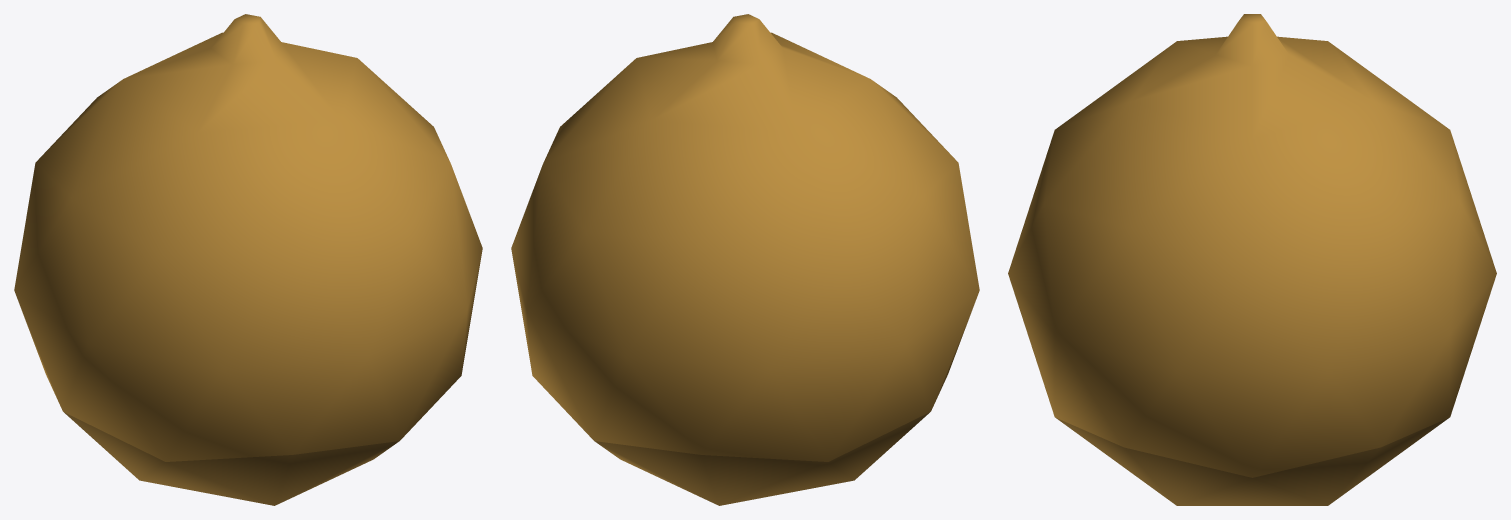
The model's file is Onion.glb.
The picture shows the model from 3 angles, left to right: view 1: azimuth 30°, elevation 25°; view 2: azimuth 150°, elevation 25°; view 3: azimuth 270°, elevation 25°; orthographic projection. The views are drawn at different scales.
Visible parts, largest first — view 1: Icosphere.012; view 2: Icosphere.012; view 3: Icosphere.012.
Boxes of the visible parts, x1,y1,x2,y2 form: Icosphere.012: (14,14,482,505); Icosphere.012: (511,14,979,505); Icosphere.012: (1008,14,1496,505).
Size of the model in its own units: 0.643 by 0.7266 by 0.6761.
